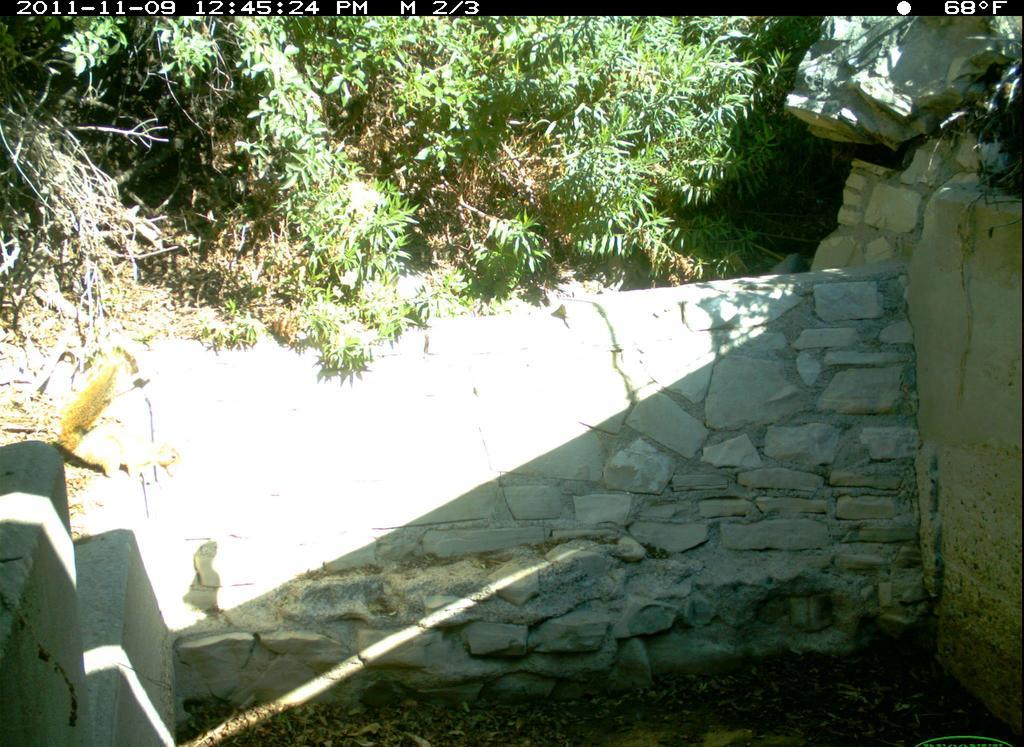squirrel: (52, 346, 190, 482)
